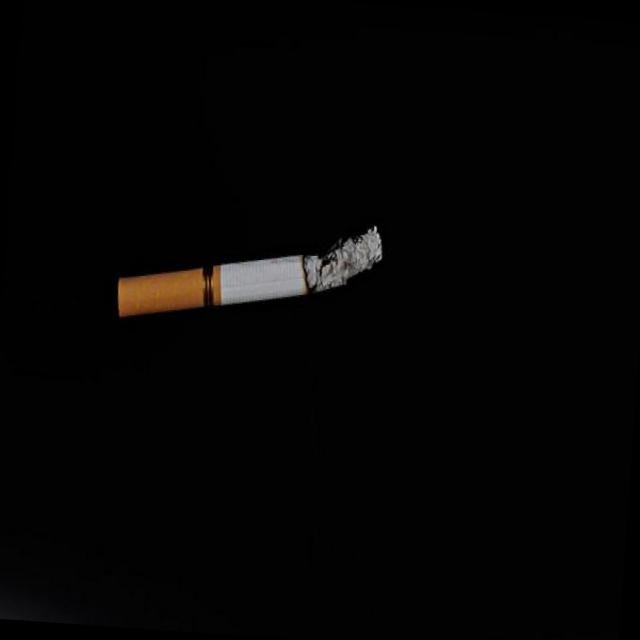smoke: (115, 204, 388, 342)
